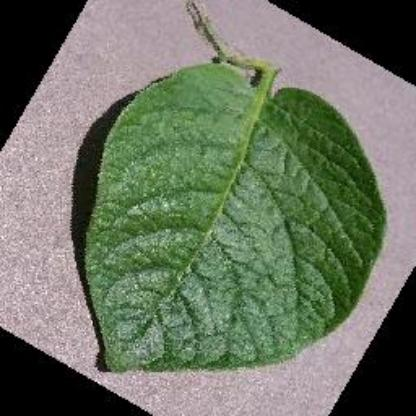Healthy-plant: (72, 40, 388, 376)
